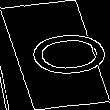O_E: (4, 29, 106, 81)
